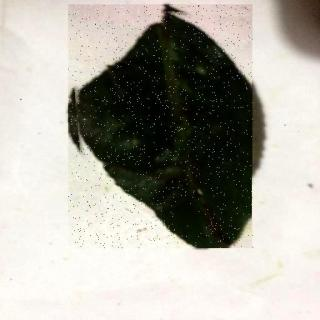Red Leaf Spot: (70, 5, 255, 249)
